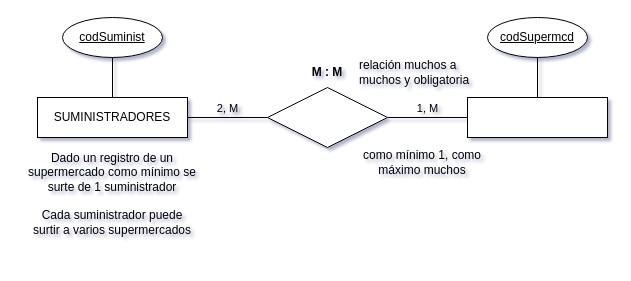
This 631x281 diagram has some shape labels left out. Here are the shapes that lost their labels. From the top down, the centre of each, then its label:
At (327,117): "Suministrar".
At (537,117): "SUPERMERCADOS".
